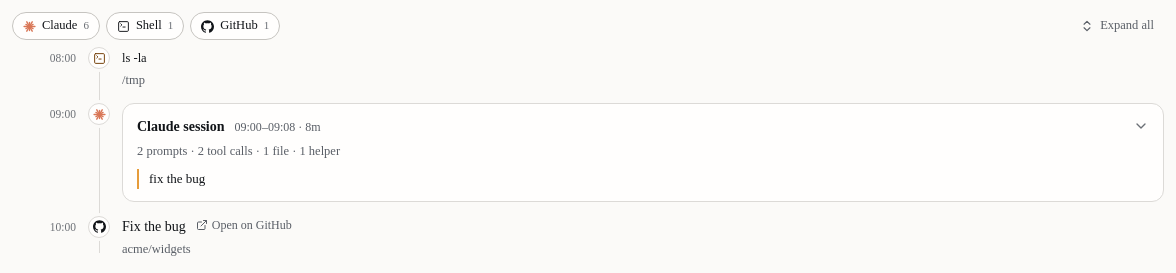
it: BlockDetails timeline › hides and restores the shell row via its filter chip
Expected: the text "ls -la" is shown, [122,48,147,68]
Click the button "Shell 1" at (145, 26), box [106,12,184,40]
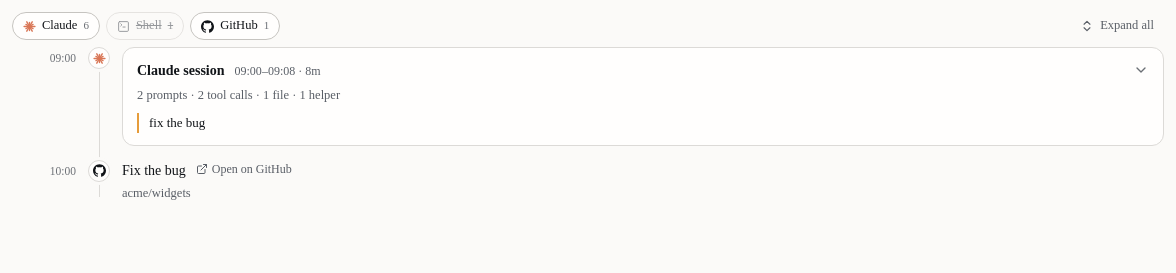
Expected: the button "ls -la" is gone
Click the button "Shell 1" at (145, 26), box [106,12,184,40]
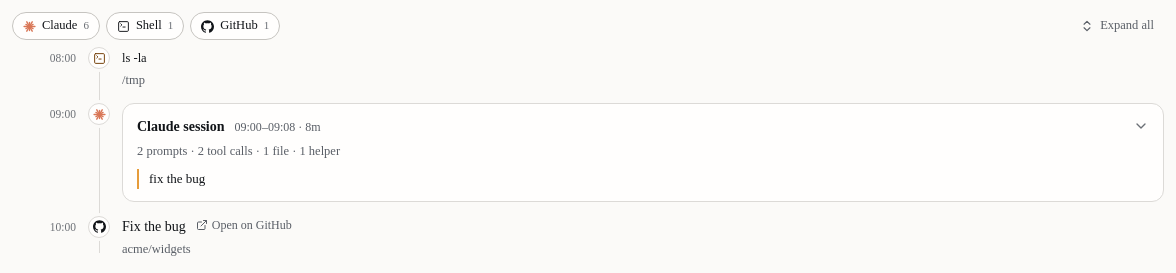
Expected: the text "ls -la" is shown, [122,48,147,68]
